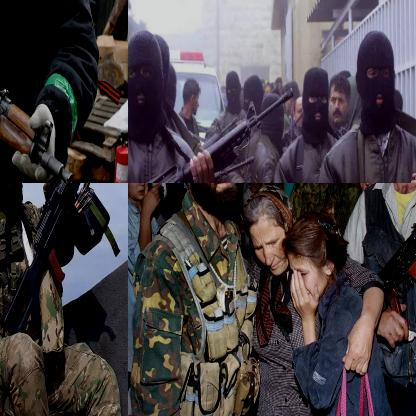rifle: (0, 183, 127, 334), (128, 82, 299, 182), (0, 54, 76, 182), (332, 68, 415, 182), (375, 183, 415, 310)
